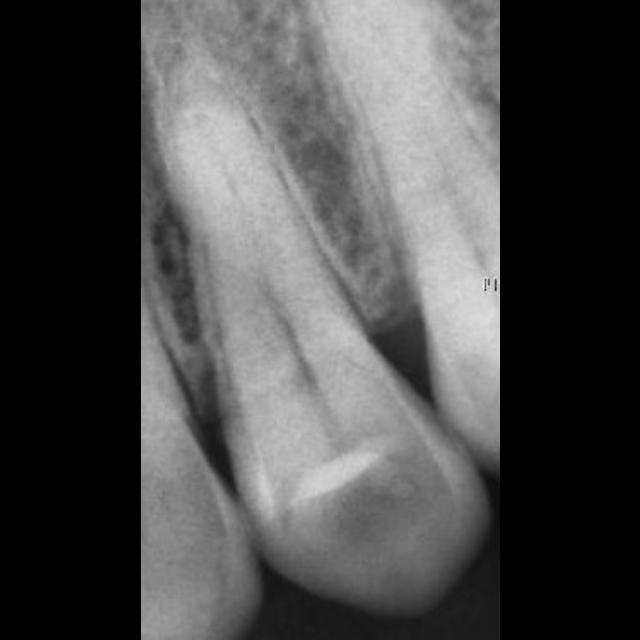tooth: (170, 81, 493, 619)
